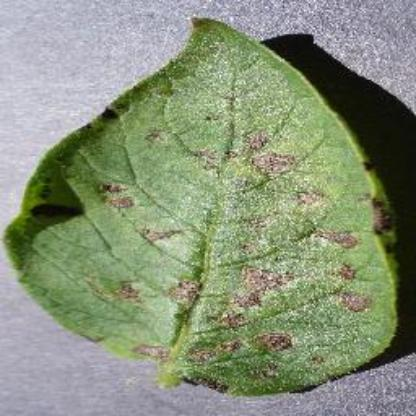Early-Blight: (8, 14, 402, 392)
